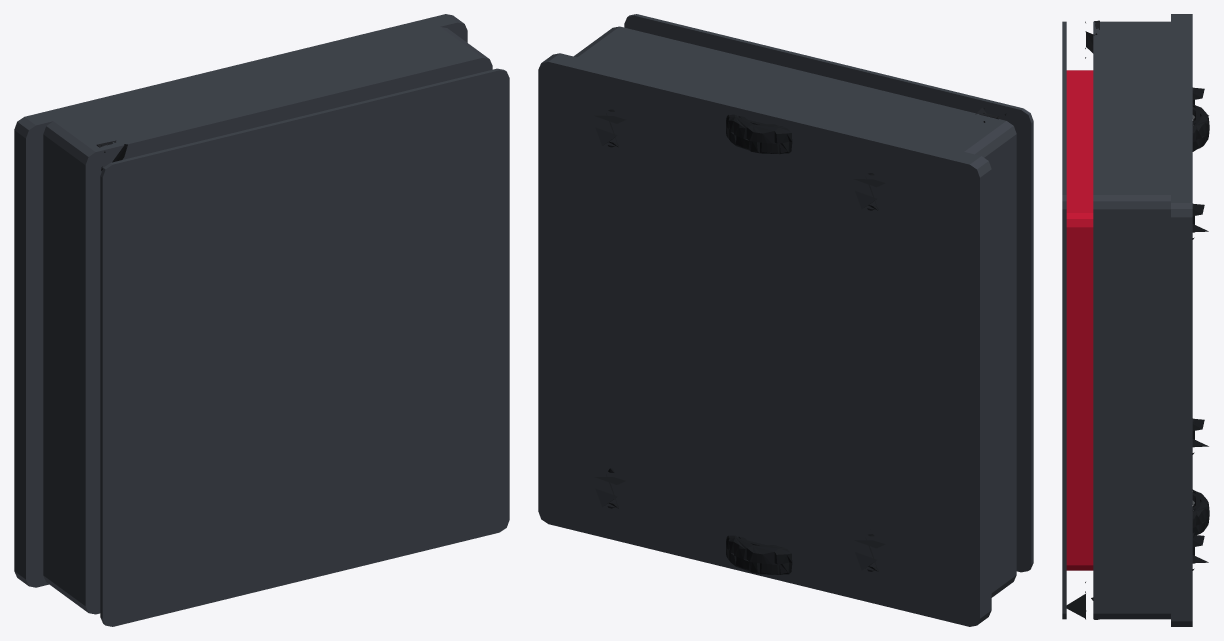
The model's file is tetra-h.glb.
3 views of the same model, side by side, from view 1: azimuth 30°, elevation 25°; view 2: azimuth 150°, elevation 25°; view 3: azimuth 270°, elevation 25° (orthographic). The views are drawn at different scales.
Visible parts, largest first — view 1: body; view 2: body, wheel; view 3: body, band, wheel, lidar.
Boxes of the visible parts, x1=… form: body: x1=14, y1=14, x2=509, y2=626; body: x1=538, y1=14, x2=1033, y2=626; wheel: x1=594, y1=109, x2=885, y2=574; body: x1=1062, y1=14, x2=1192, y2=626; band: x1=1066, y1=70, x2=1093, y2=570; wheel: x1=1192, y1=87, x2=1209, y2=570; lidar: x1=1066, y1=20, x2=1099, y2=619.
Size of the model in its own units: 0.868 by 0.883 by 0.274.
